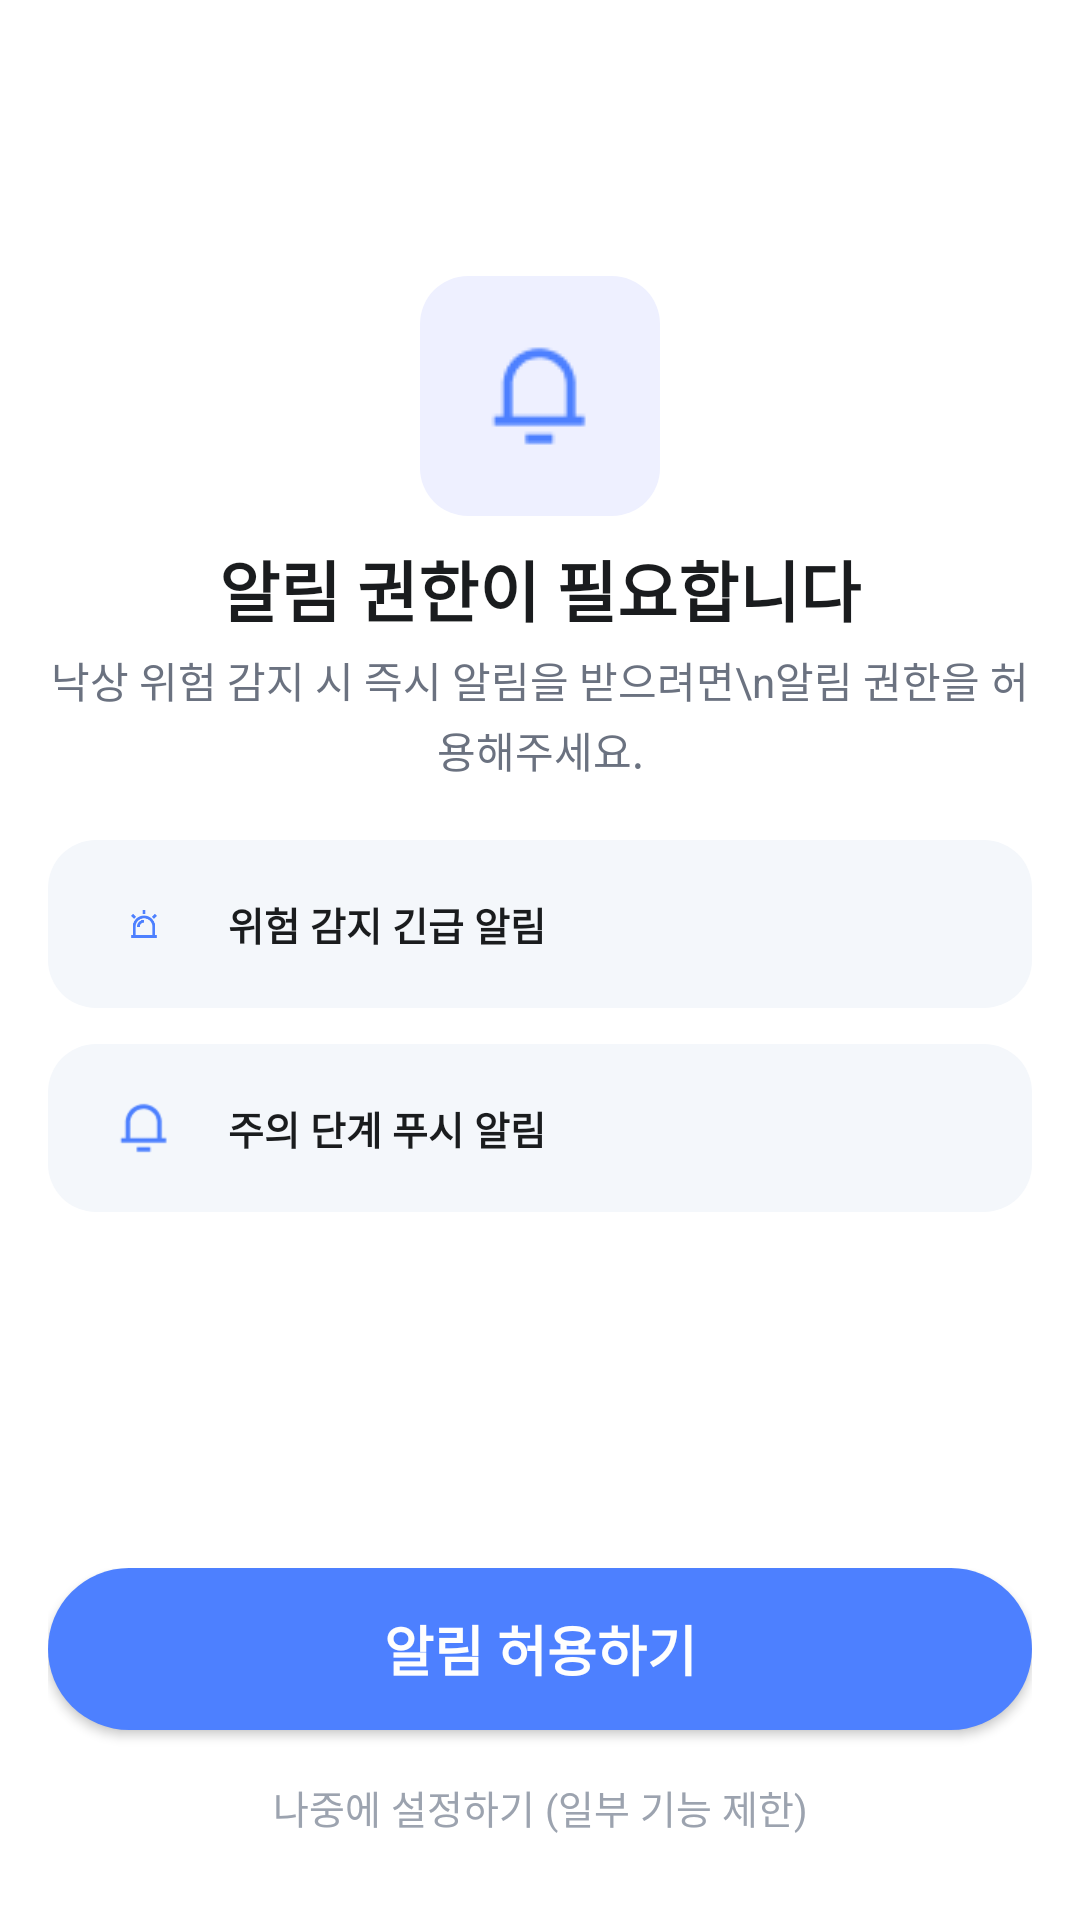

Screen size 1080 × 1920. Icon name, then its center in pixels as [x,y]:
notifications: [539,396], [143,1128]
siren: [144,924]
